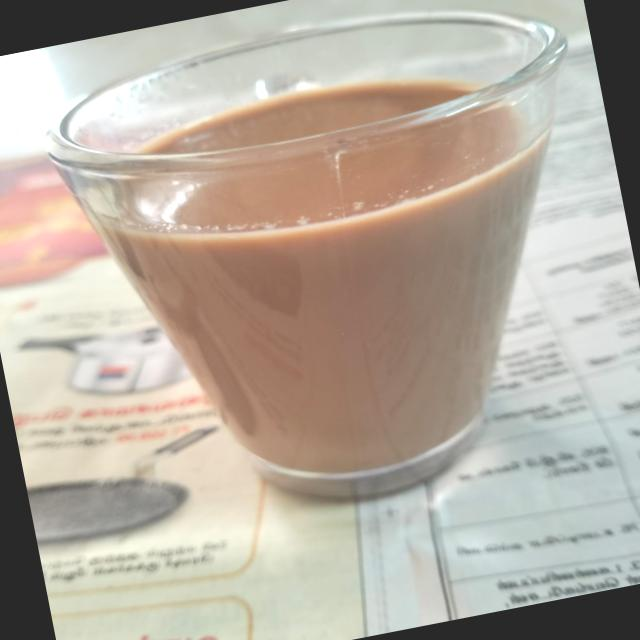glass-VX4N: (24, 0, 640, 554)
